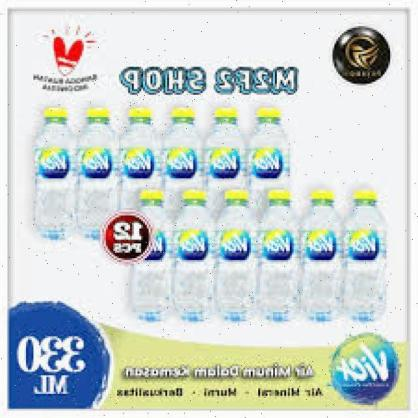bottle: (293, 183, 353, 328), (246, 184, 302, 336), (19, 109, 75, 240), (120, 186, 174, 319), (338, 190, 391, 319), (66, 108, 116, 238), (109, 111, 162, 215), (168, 188, 212, 309), (216, 180, 255, 315), (241, 107, 290, 196), (195, 105, 247, 188), (162, 110, 202, 196)
cap: (306, 184, 339, 207), (211, 104, 242, 127), (264, 187, 296, 207), (220, 188, 255, 205), (139, 187, 168, 206), (40, 108, 73, 123), (124, 109, 152, 125), (258, 105, 284, 122), (85, 108, 112, 124), (180, 188, 204, 206), (352, 190, 378, 205), (168, 107, 190, 124)
label: (336, 229, 386, 263), (249, 145, 288, 179), (202, 149, 244, 180), (296, 232, 340, 260), (118, 148, 156, 177), (78, 146, 111, 178), (164, 148, 198, 176), (215, 229, 251, 254), (260, 234, 297, 258), (180, 232, 208, 256)
